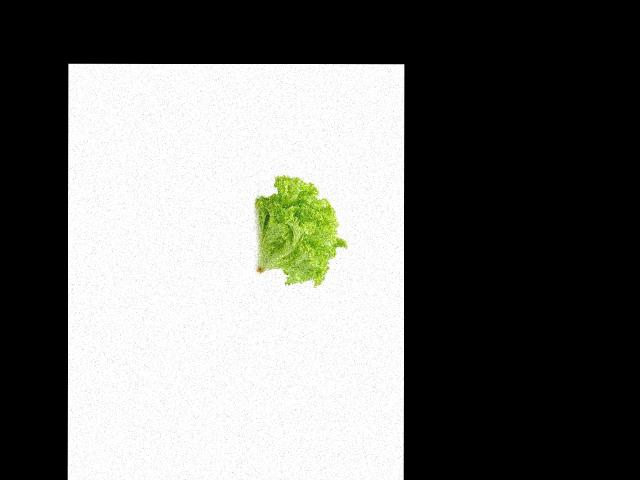lettuce: (241, 182, 342, 285)
